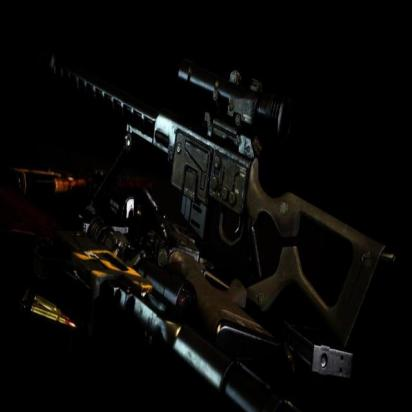Gun: (24, 22, 400, 366)
